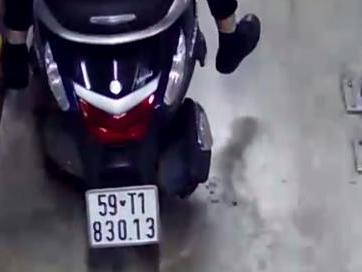num_plate: (84, 184, 161, 249)
